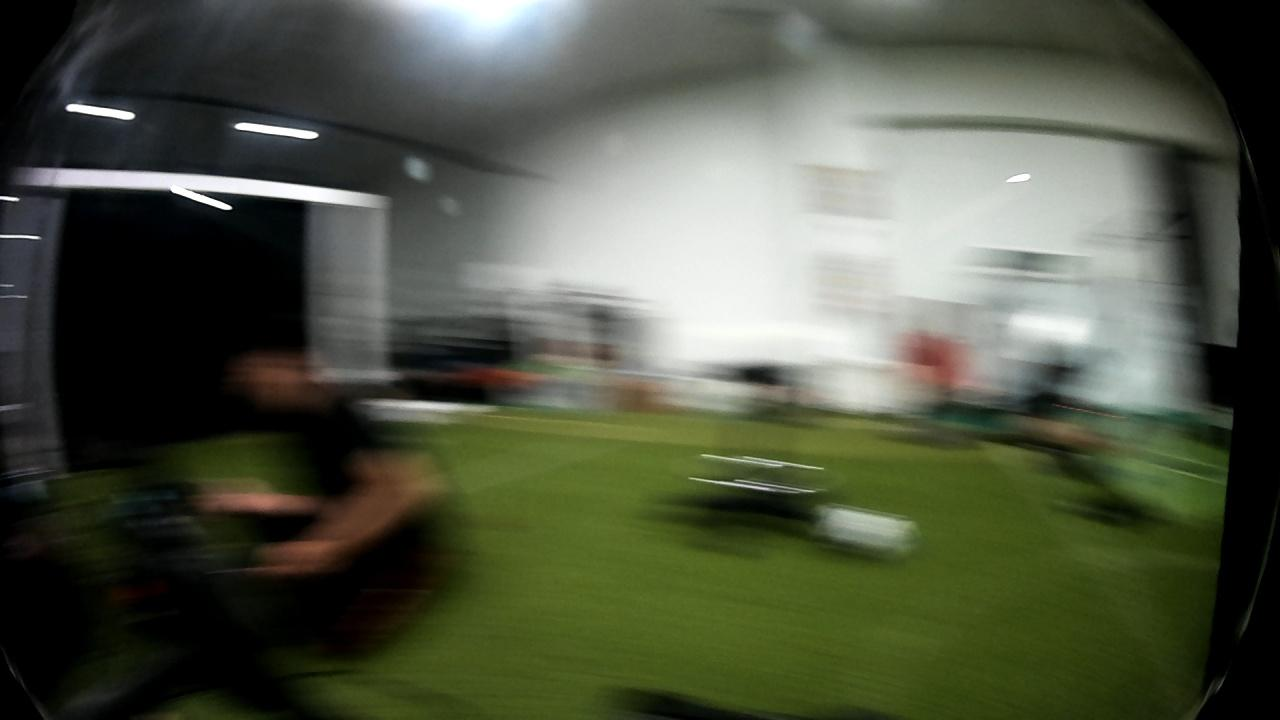ball: (803, 499, 922, 561)
